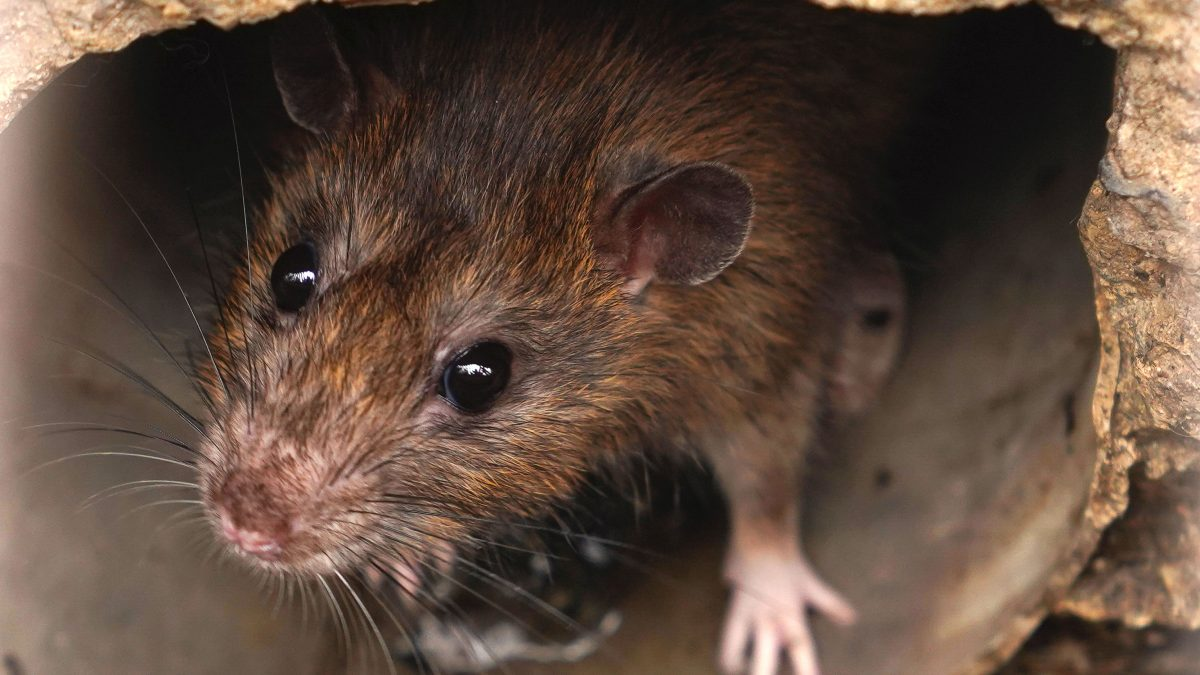rat: (92, 3, 927, 675)
